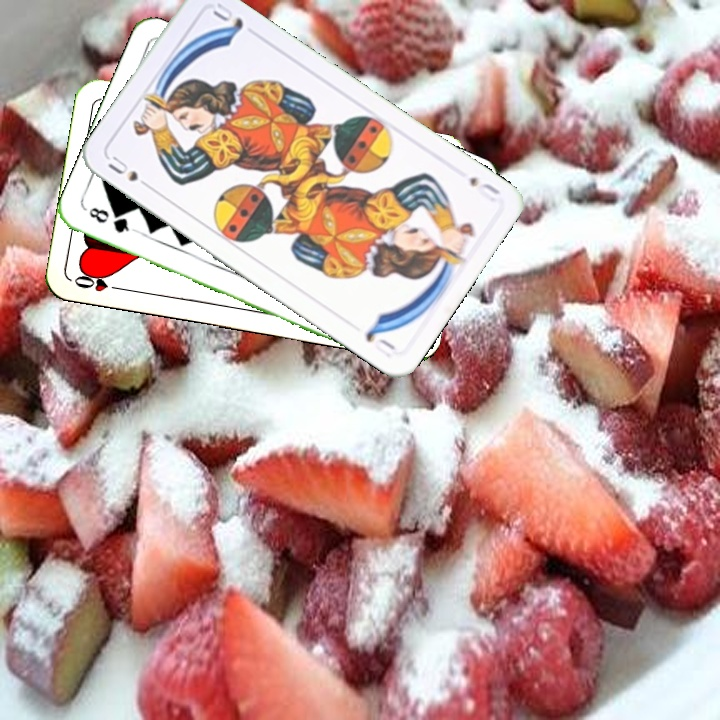G8: (84, 203, 138, 236)
HO: (70, 270, 128, 295)
SU: (104, 151, 156, 193), (465, 172, 503, 205)
